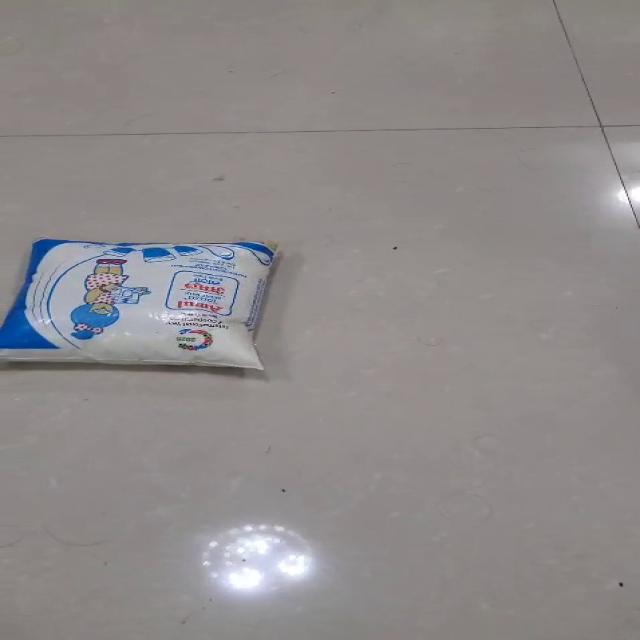plastic: (0, 237, 280, 371)
